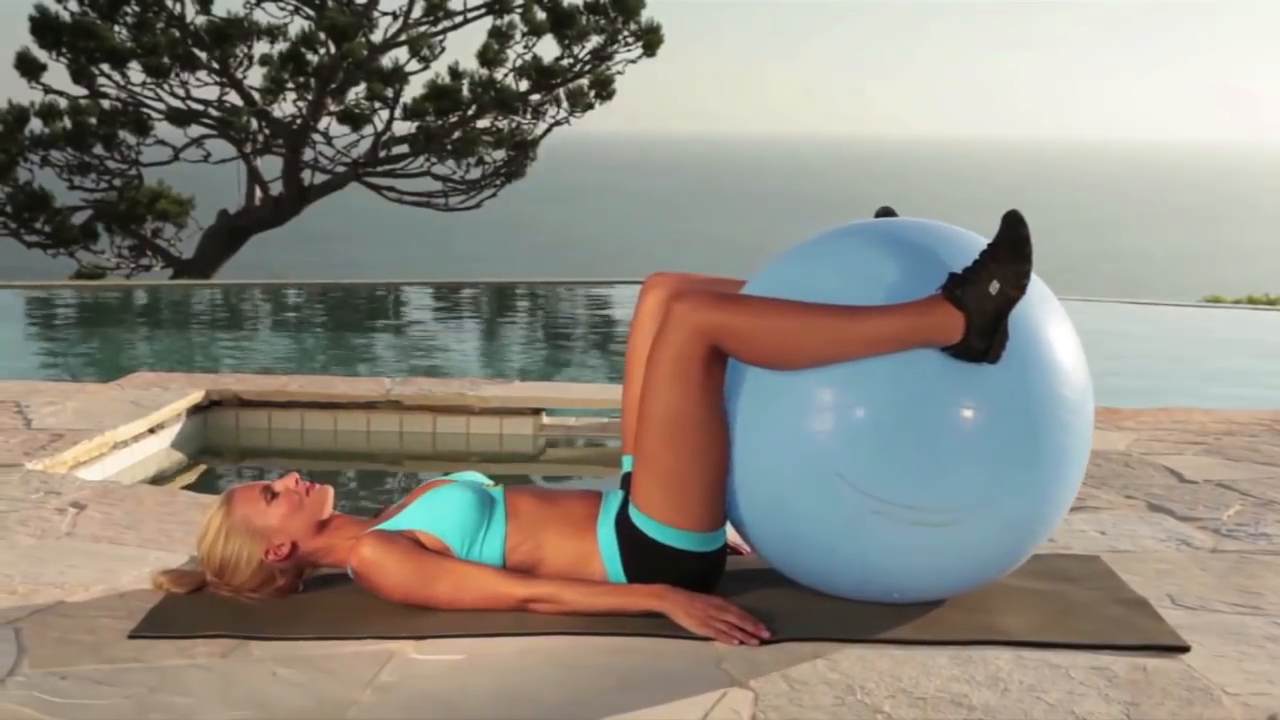yogaball: (713, 212, 1102, 610)
